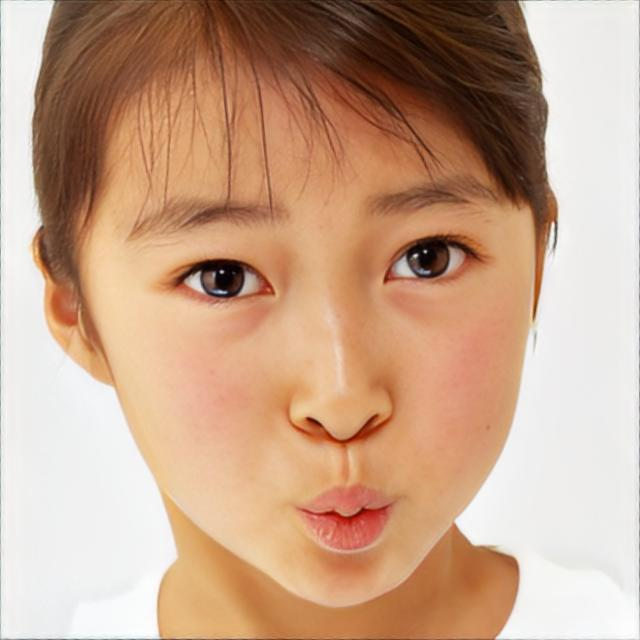surprise: (73, 38, 541, 608)
